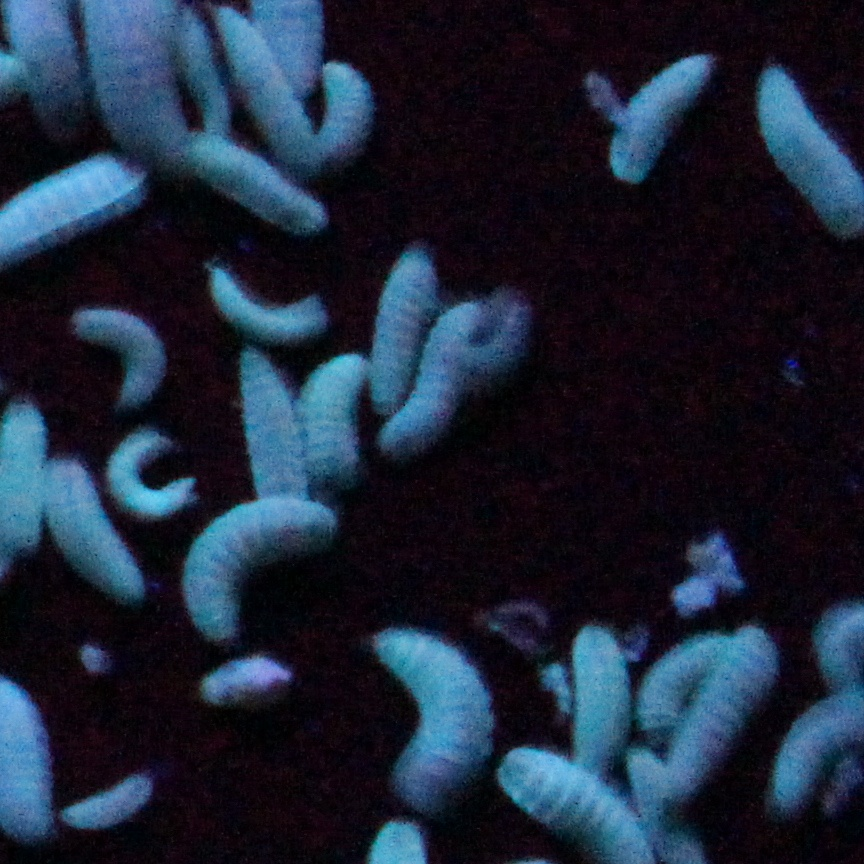larve: (368, 623, 502, 814), (657, 614, 784, 801), (191, 494, 339, 646), (216, 5, 320, 169), (43, 455, 148, 614), (389, 294, 486, 453), (607, 51, 718, 187), (182, 135, 332, 228), (232, 335, 314, 505), (620, 637, 727, 744), (298, 344, 368, 496), (207, 267, 329, 353), (570, 619, 639, 771), (375, 246, 436, 414), (82, 296, 166, 405), (170, 7, 234, 135), (109, 435, 200, 523), (309, 60, 370, 157), (43, 778, 159, 828), (198, 655, 300, 707)
